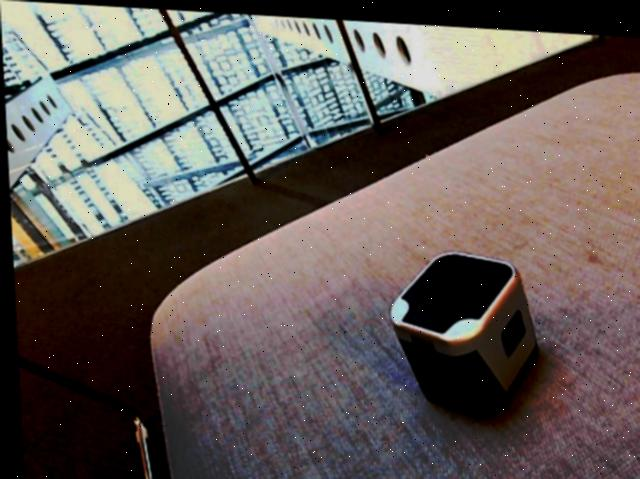adapter: (383, 242, 538, 415)
